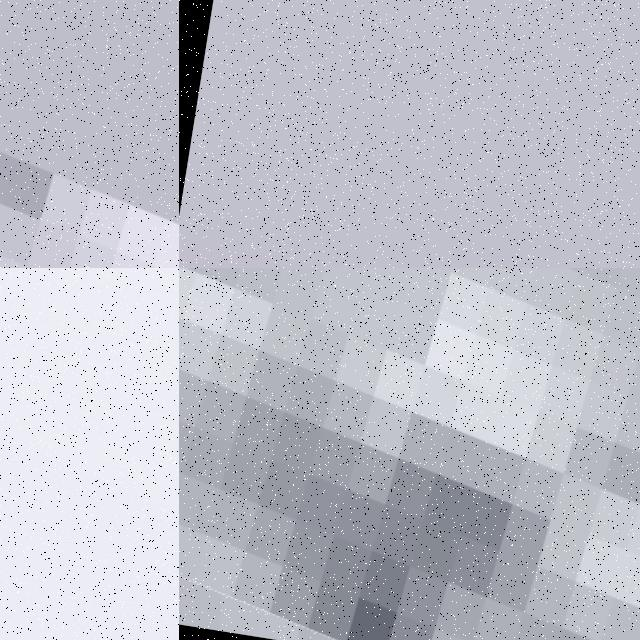drone: (179, 268, 640, 640), (0, 268, 179, 640), (0, 0, 179, 268)
